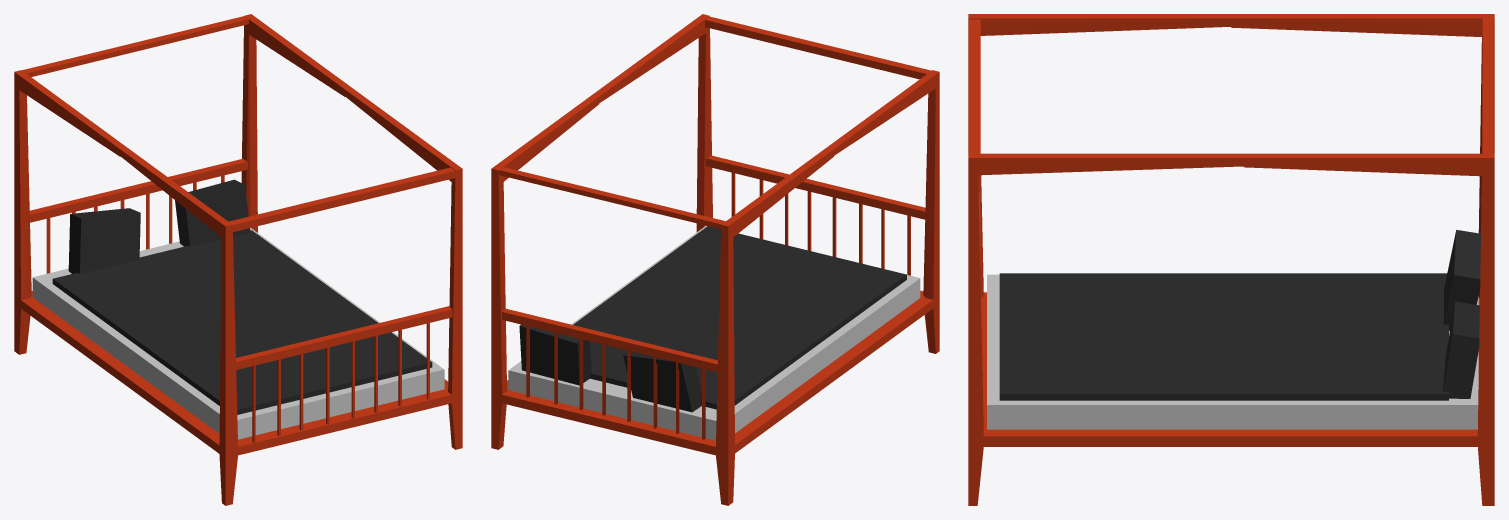
File: bett.DAE
The picture shows the model from 3 angles, left to right: view 1: azimuth 30°, elevation 25°; view 2: azimuth 150°, elevation 25°; view 3: azimuth 270°, elevation 25°; orthographic projection. The views are drawn at different scales.
Parts seen in each view (by area): view 1: Cube; view 2: Cube; view 3: Cube.
Part boxes in pixels (left/top/right/bottom): Cube: left=14, top=14, right=462, bottom=505; Cube: left=491, top=14, right=939, bottom=505; Cube: left=968, top=14, right=1494, bottom=505.
Bounding box in the file's own units: 78.74 × 88.76 × 122.
